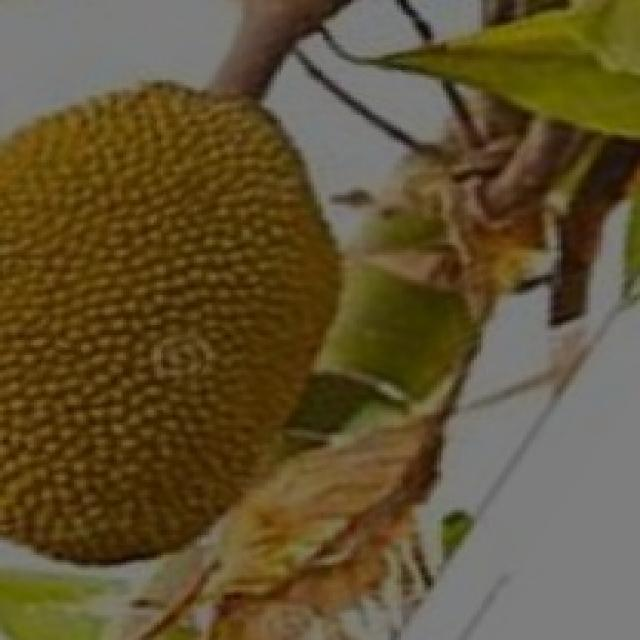Fruit: (0, 217, 378, 604), (0, 58, 382, 410), (271, 238, 495, 428)
